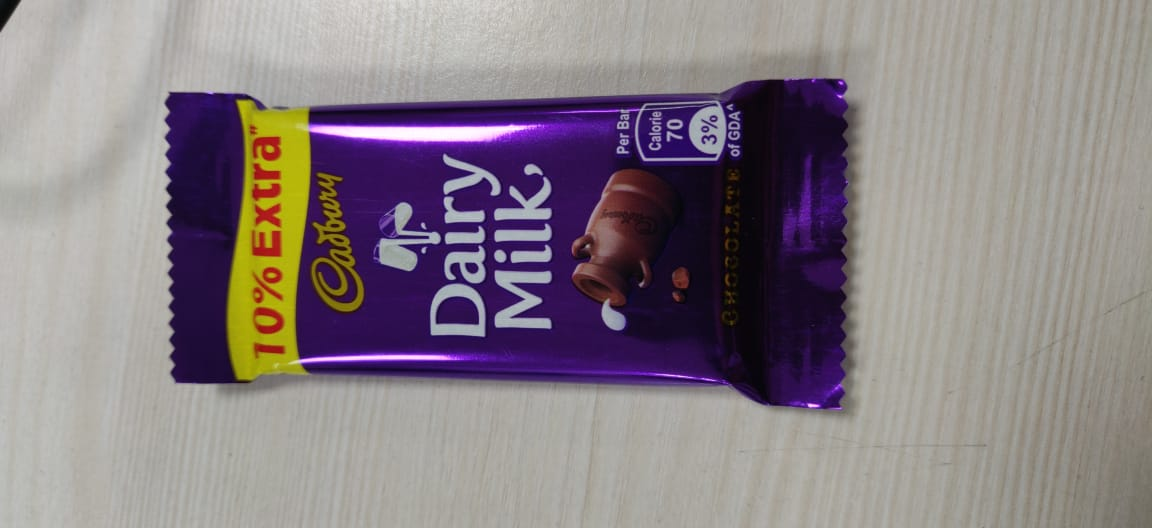dairy milk: (152, 75, 854, 420)
